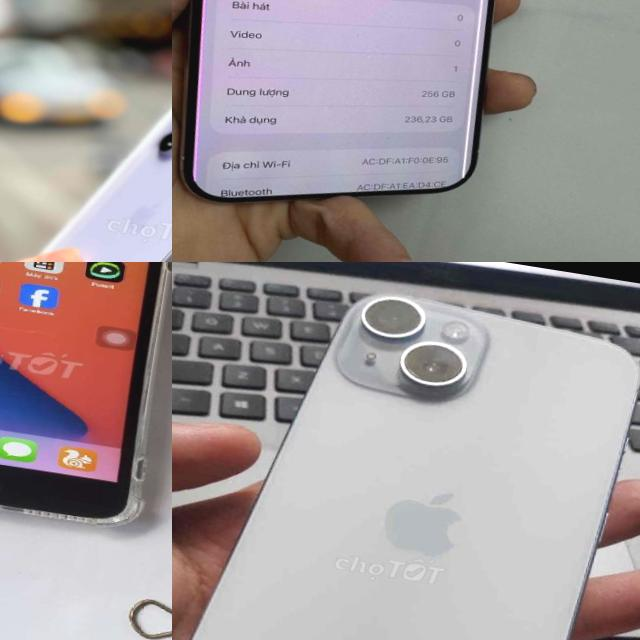screen_defect: (423, 0, 555, 195), (172, 0, 303, 190)
